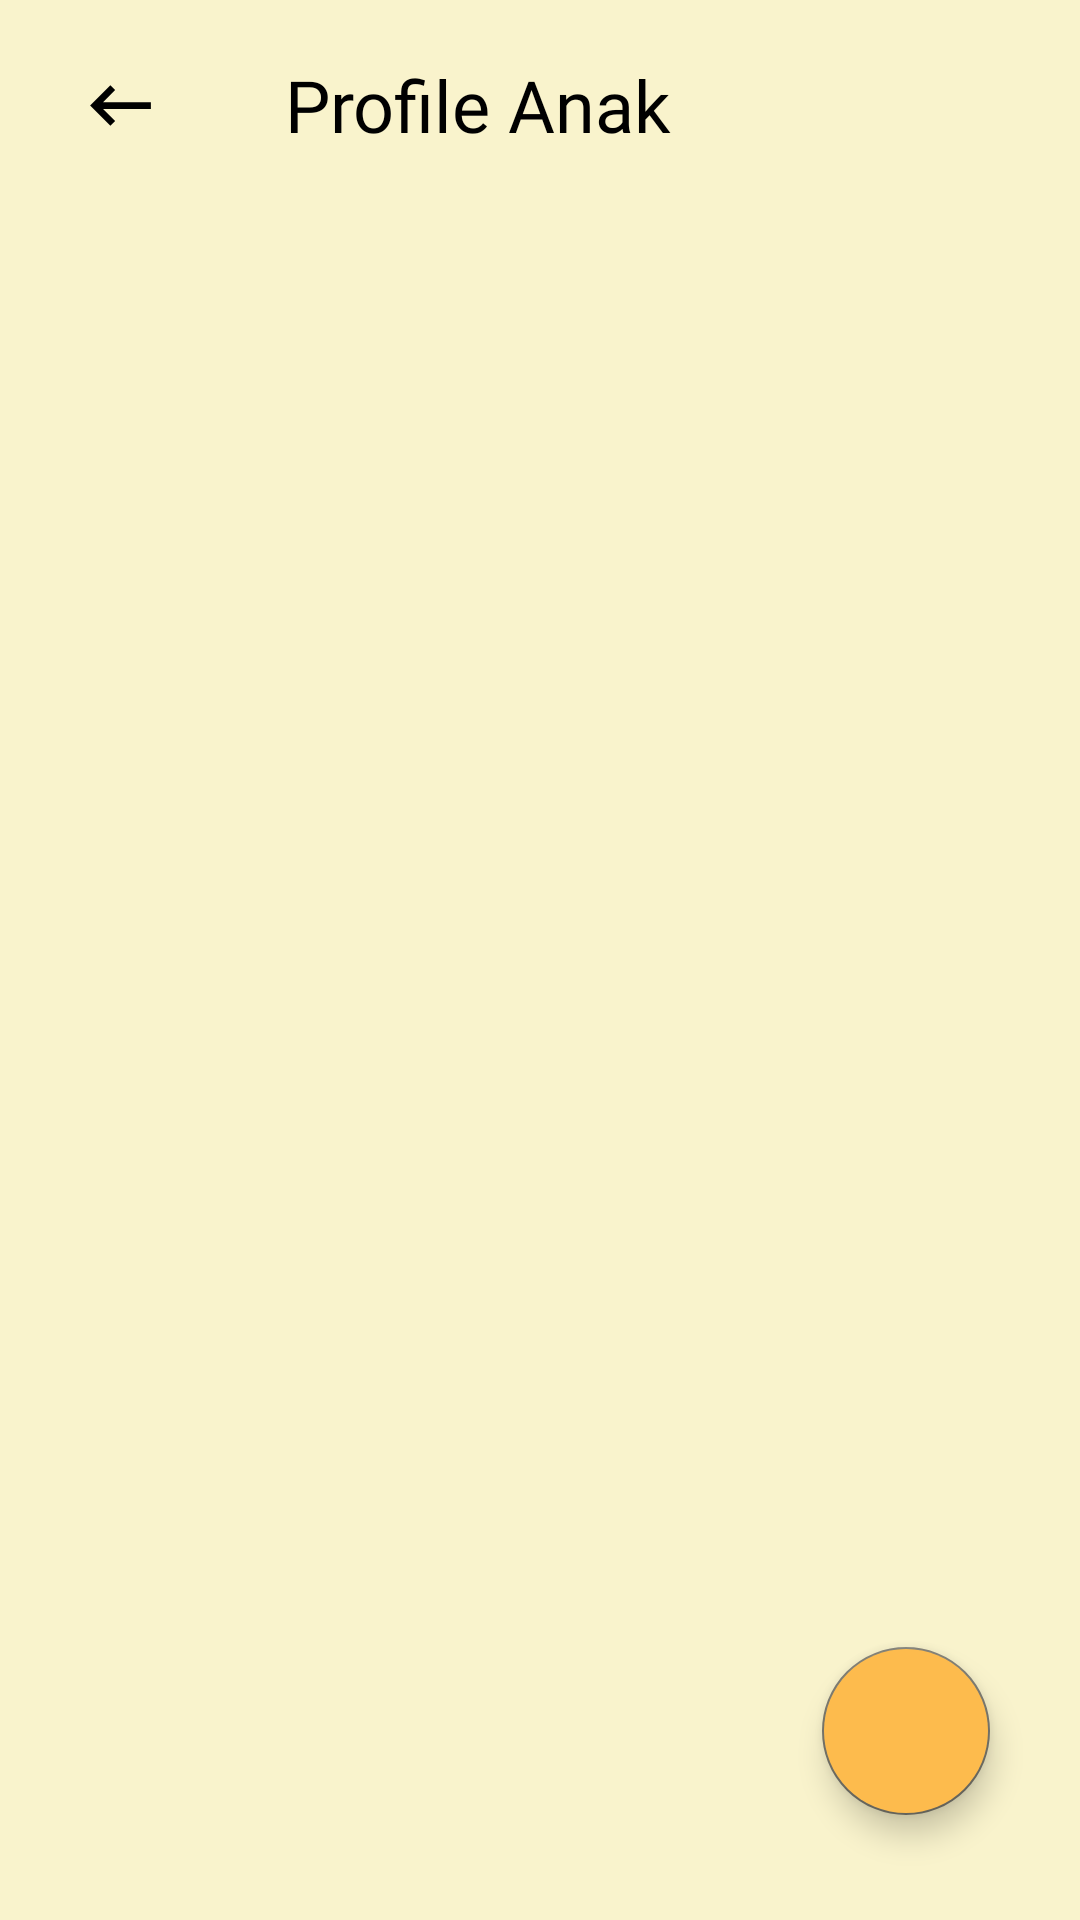

Where icons sit on this 1080x1920 app screen, as box=[x1, y1, x2, y2]:
back: box=[90, 85, 151, 126]
